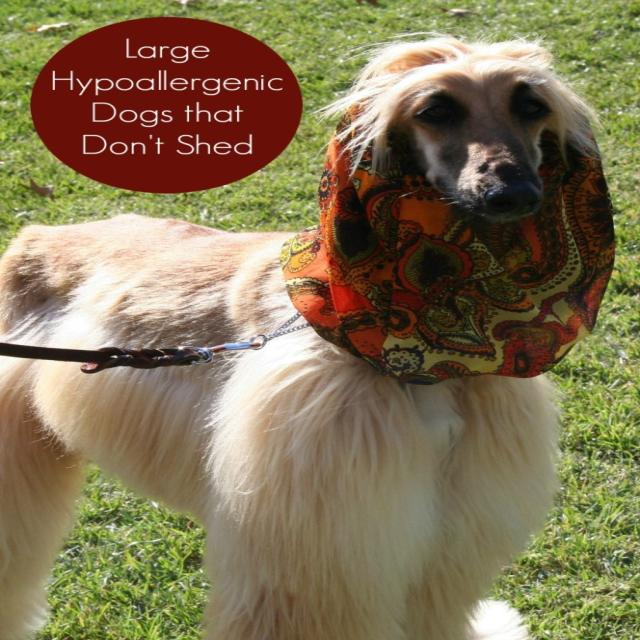dog: (238, 3, 640, 267)
